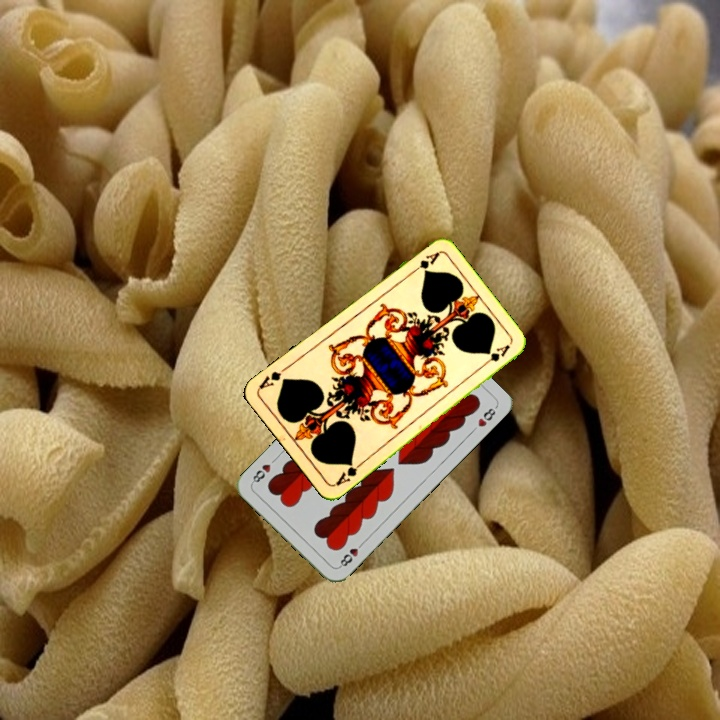GA: (331, 458, 365, 489), (406, 248, 442, 277)
H8: (335, 538, 367, 570)
